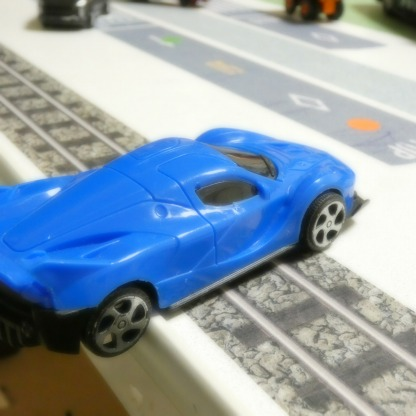car: (0, 127, 357, 363)
